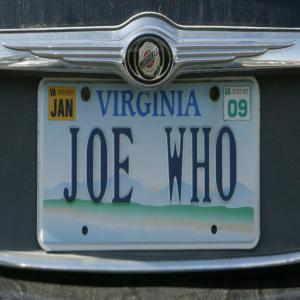Vehicle-registration-plate: (39, 78, 262, 252)
